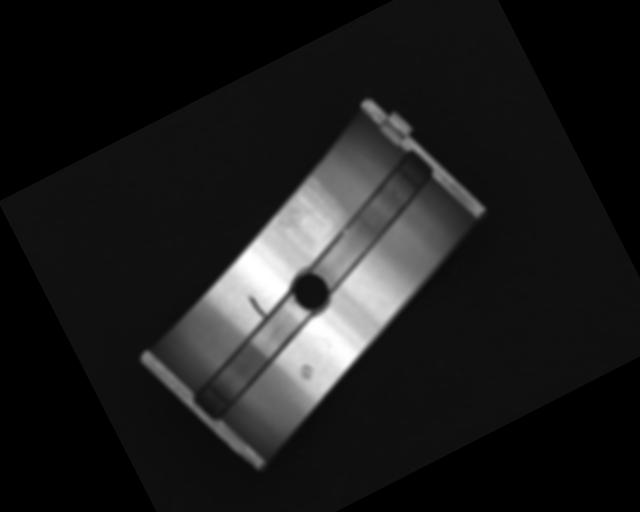bruise: (295, 360, 317, 383)
gap: (286, 152, 456, 293), (175, 296, 331, 422)
hole: (285, 267, 336, 318)
nick: (244, 288, 268, 322)
scratch: (262, 163, 344, 249)
